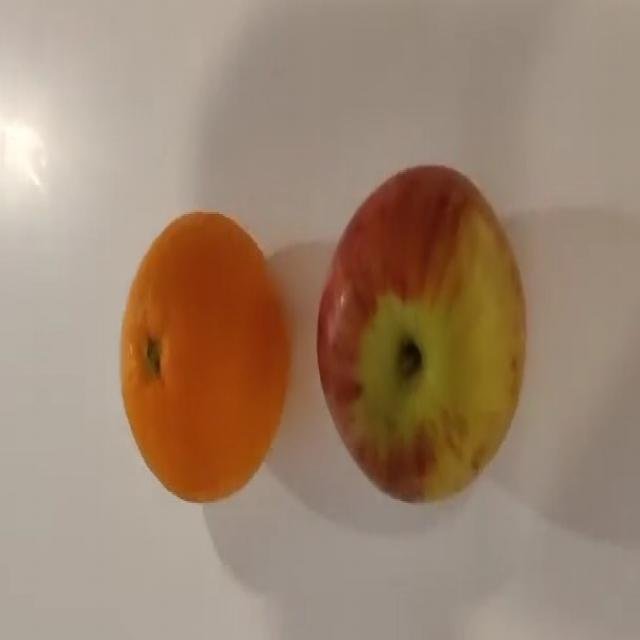Apple: (315, 163, 527, 503)
Orange: (118, 209, 290, 503)
